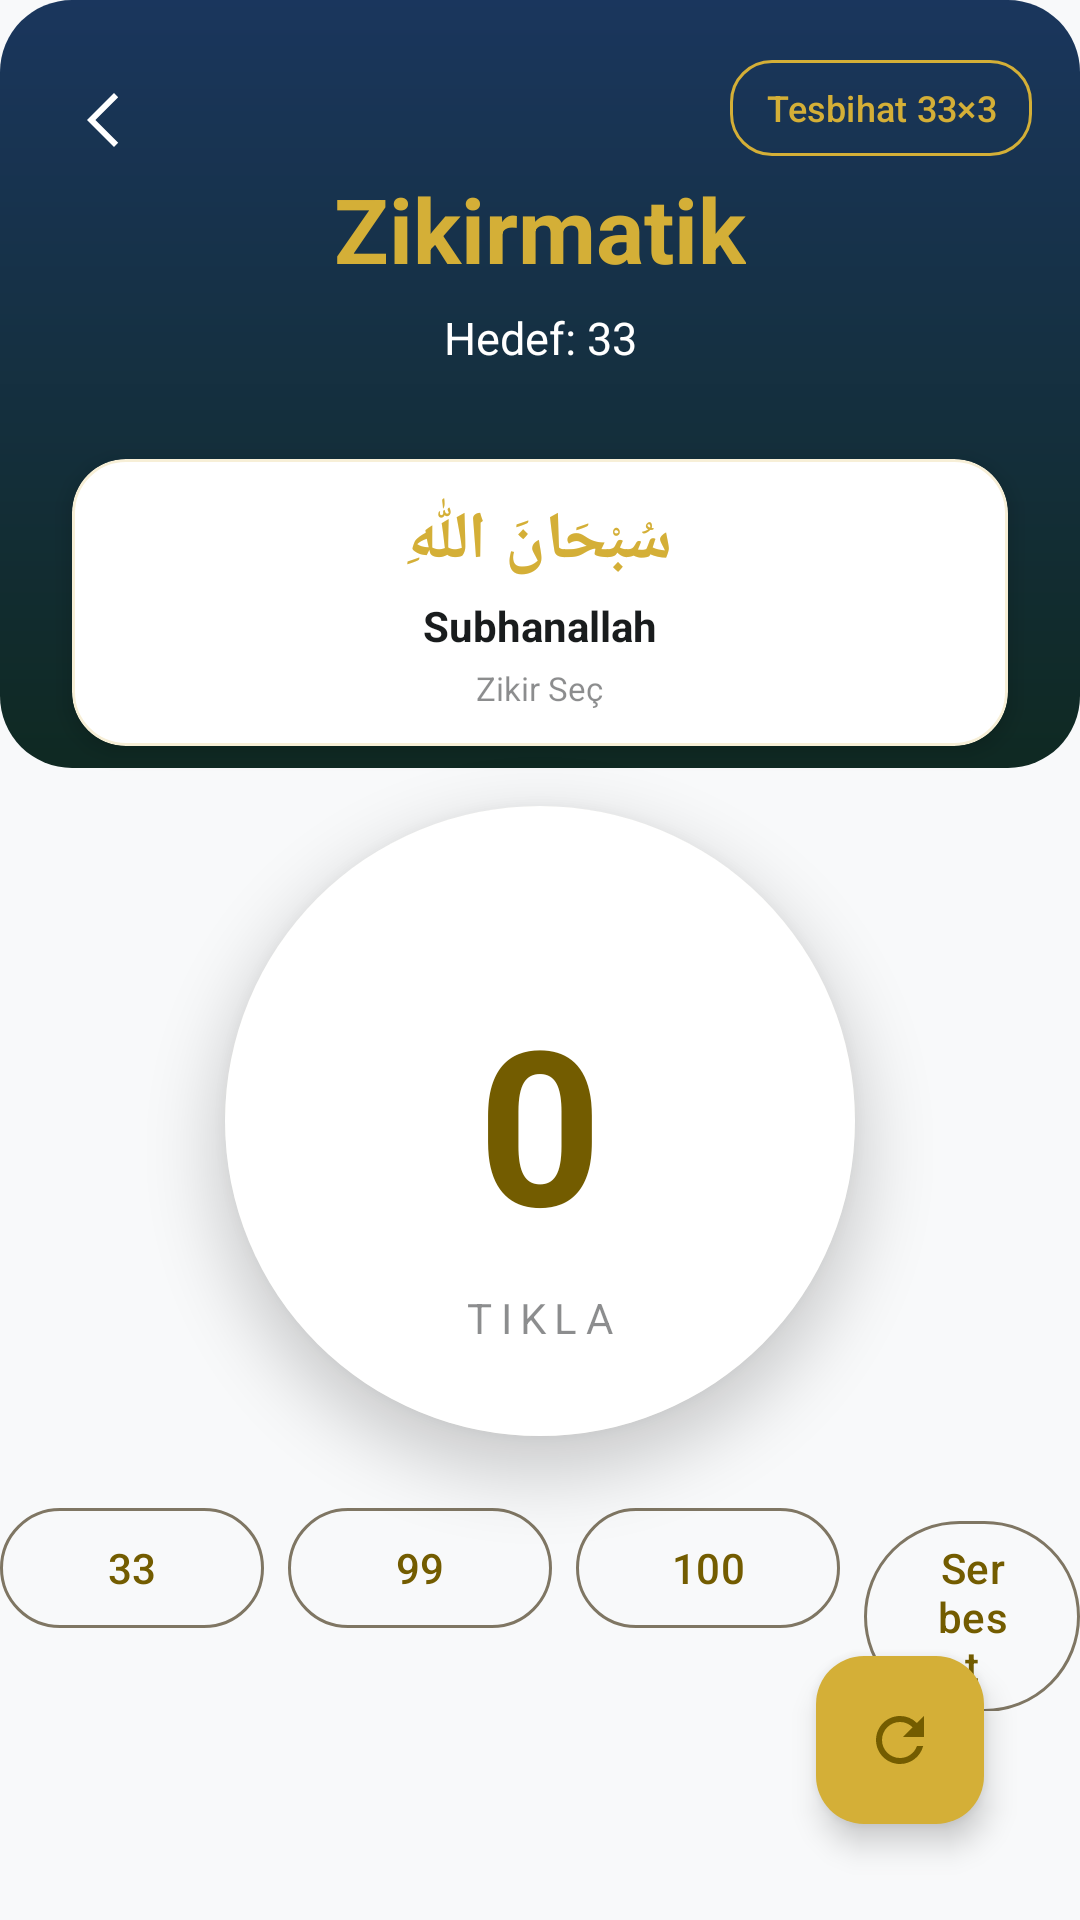

Screen size 1080px×1920px. Icon name, then its center in pixels as (x=x, y=y):
back arrow: (x=102, y=120)
refresh: (x=900, y=1740)
